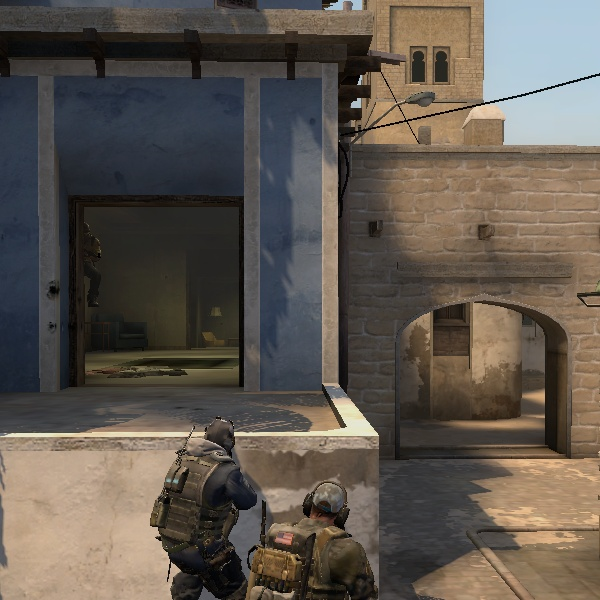ct_body: (144, 408, 264, 595), (261, 473, 378, 600)
ct_head: (300, 472, 362, 540), (197, 409, 251, 473)
